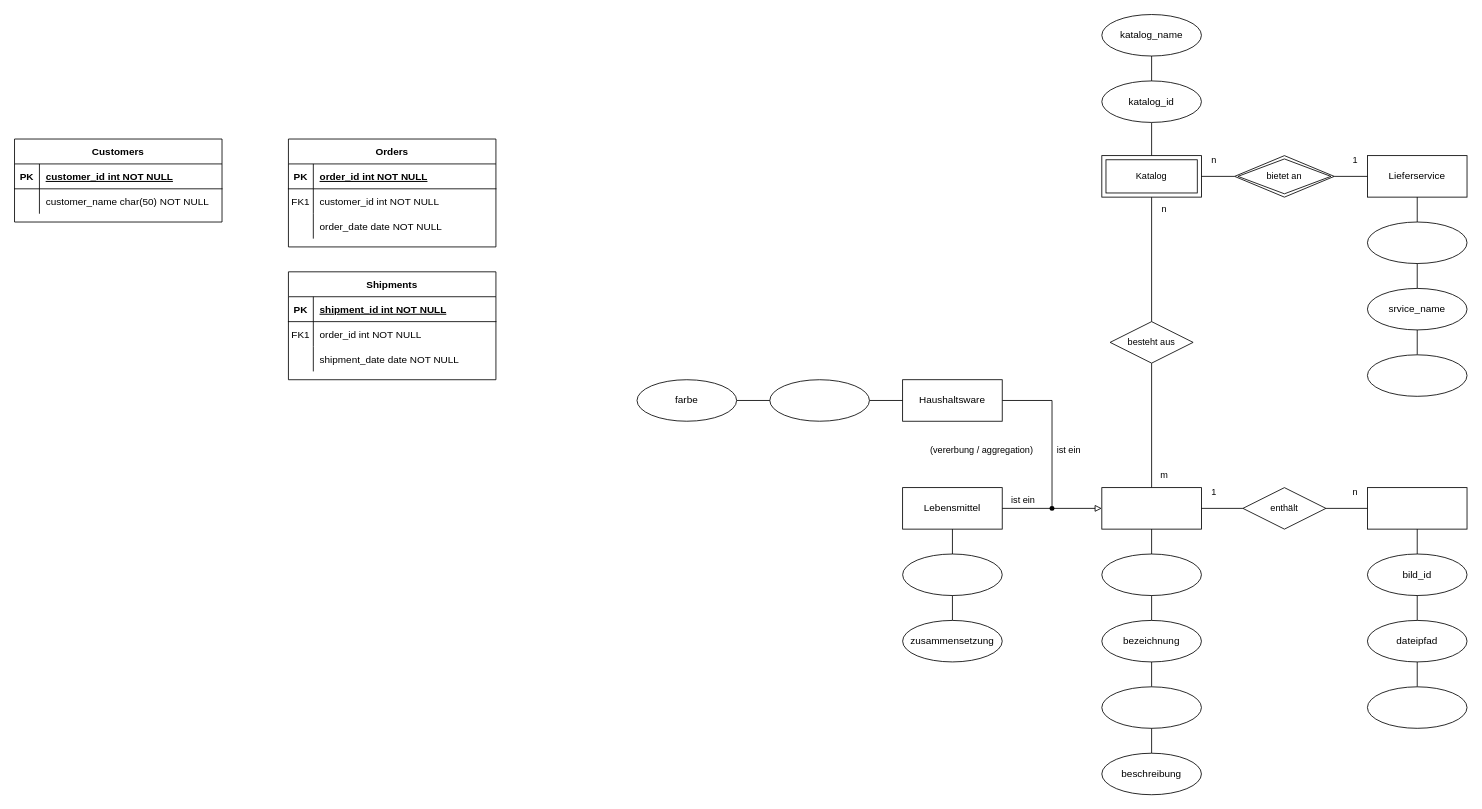
Image size: 1482x809. Some labels were removed from this diagram. The centre of each missing label's shape, as x and y in pixels:
"adresse" goes at (x=1417, y=375).
"Artikel" goes at (x=1151, y=508).
"artikelnummer" goes at (x=1151, y=574).
"Bild" goes at (x=1417, y=508).
"garantie_bis" goes at (x=819, y=400).
"gewicht" goes at (x=952, y=574).
"preis" goes at (x=1151, y=707).
"service_id" goes at (x=1417, y=242).
"titel" goes at (x=1417, y=707).
